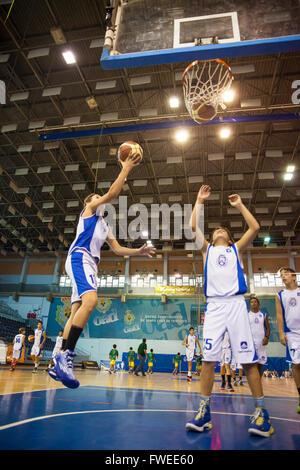basketball: (194, 96, 220, 126), (118, 137, 143, 164)
